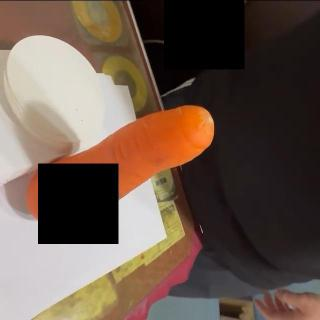carrot: (25, 105, 215, 229)
